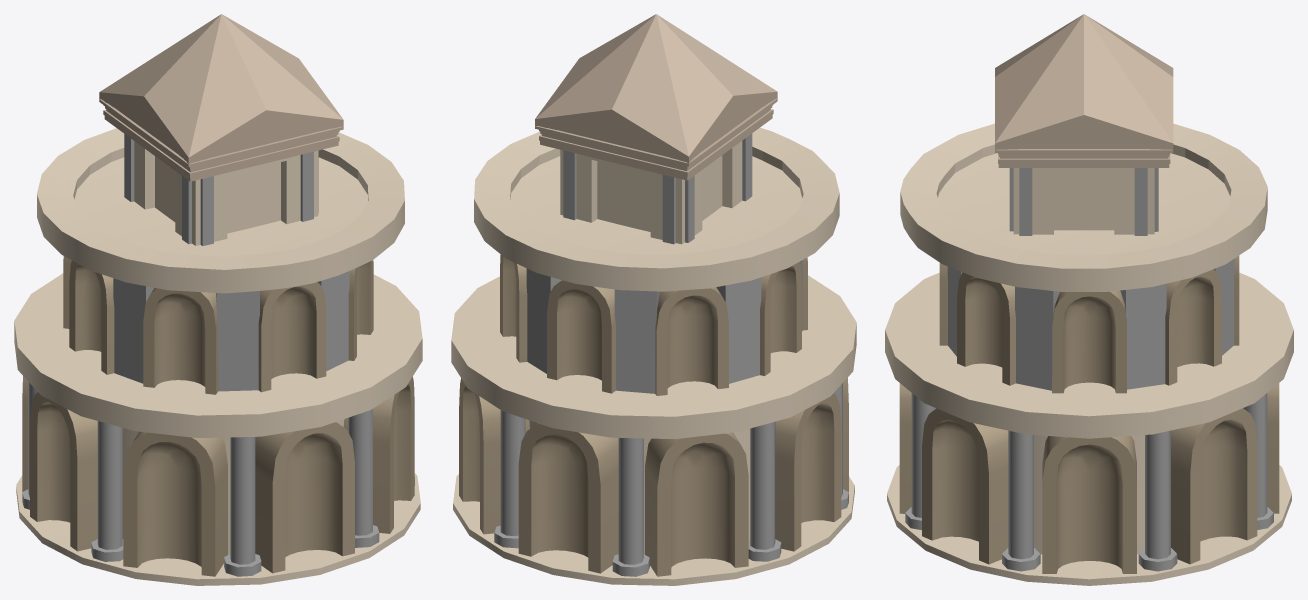
File: present building.fbx
3 renders of one model, left to right at view 1: azimuth 30°, elevation 25°; view 2: azimuth 150°, elevation 25°; view 3: azimuth 270°, elevation 25°, orthographic.
Visible parts, largest first — view 1: polySurface19193; view 2: polySurface19193; view 3: polySurface19193.
Boxes of the visible parts, x1,y1,x2,y2 form: polySurface19193: (14, 14, 422, 585); polySurface19193: (451, 14, 856, 585); polySurface19193: (885, 14, 1293, 585).
Bounding box in the file's own units: 171 × 224 × 171.
